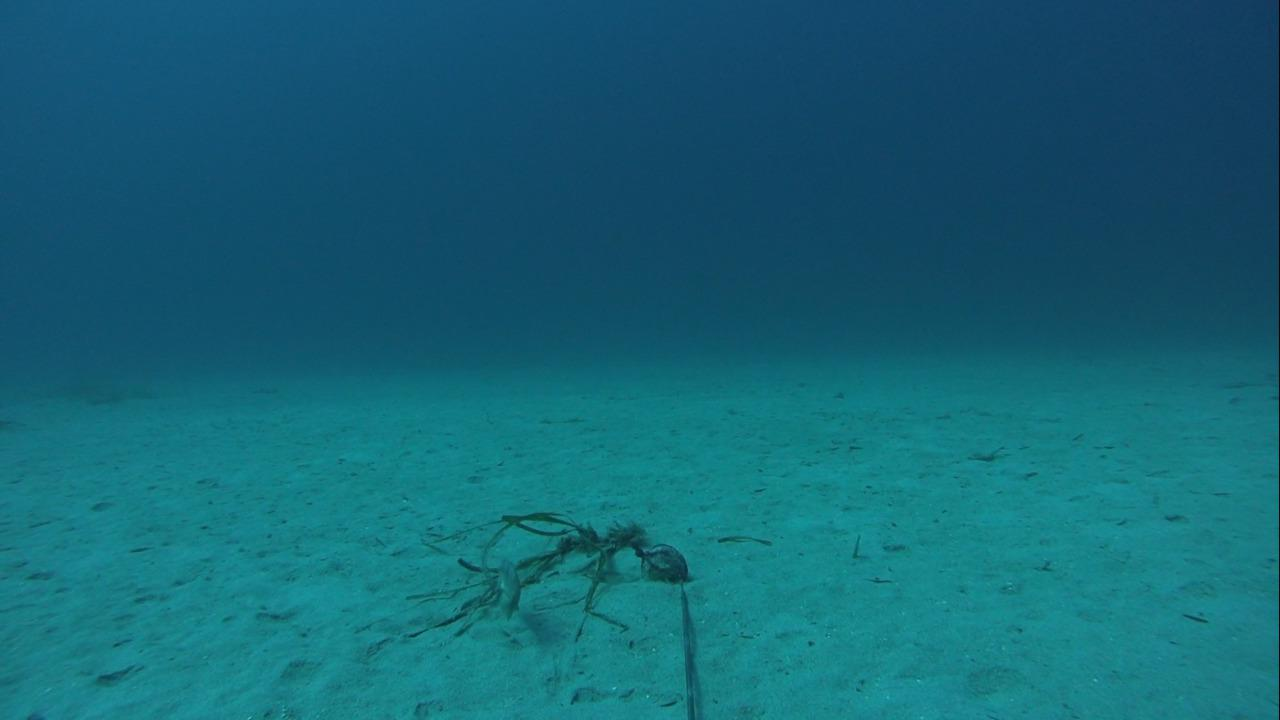raor: (488, 549, 524, 621)
